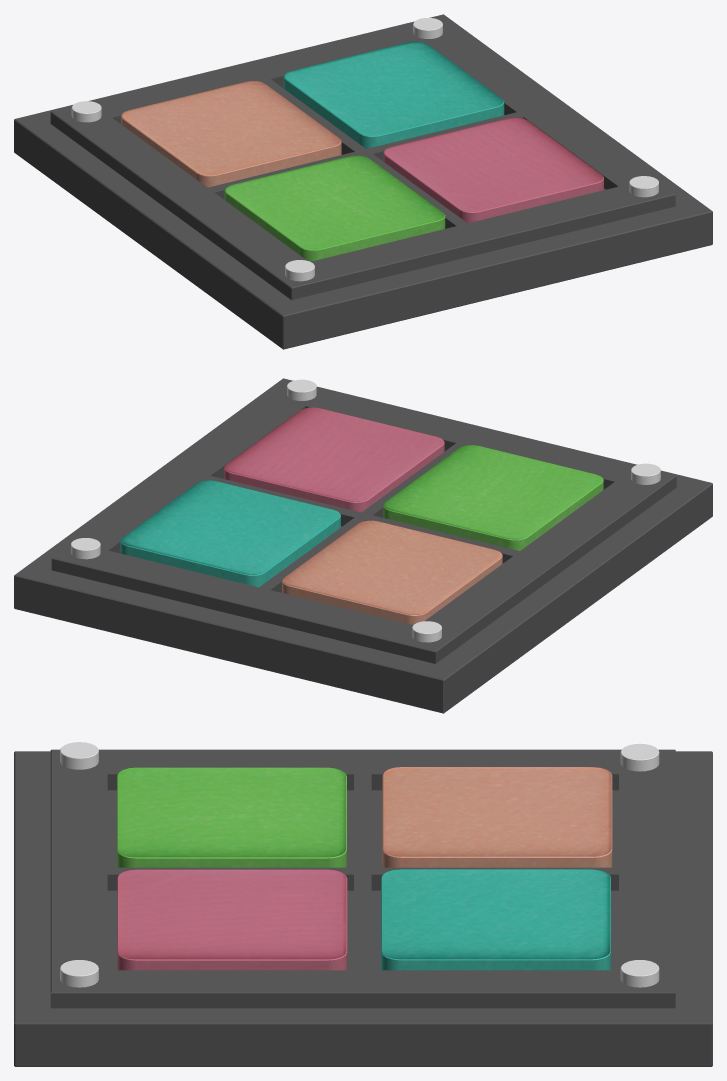
The model's file is Beauty_Product_06.fbx.
3 renders of one model, top to bottom at view 1: azimuth 30°, elevation 25°; view 2: azimuth 150°, elevation 25°; view 3: azimuth 270°, elevation 25°, orthographic. The views are drawn at different scales.
Parts seen in each view (by area): view 1: Beauty_Product_06; view 2: Beauty_Product_06; view 3: Beauty_Product_06.
Part boxes in pixels (<box>): Beauty_Product_06: <box>14,14,712,349</box>; Beauty_Product_06: <box>14,378,712,713</box>; Beauty_Product_06: <box>14,742,712,1066</box>.
Size of the model in its own units: 95.48 by 11.72 by 104.
